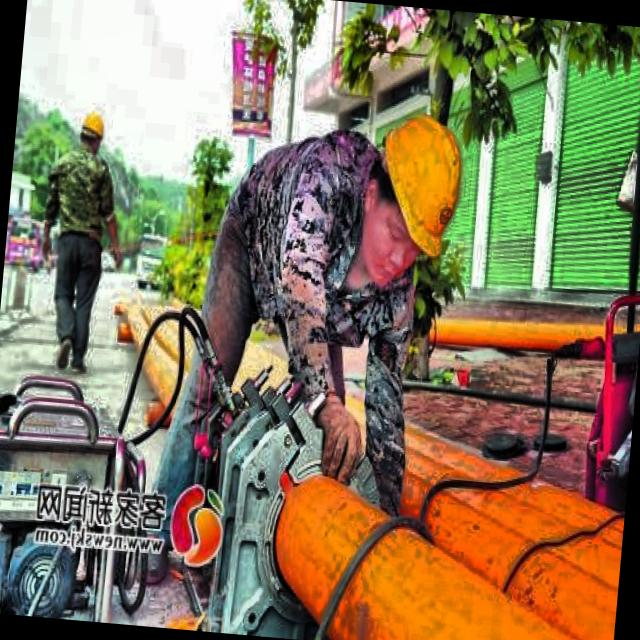helmet: (340, 93, 478, 301), (74, 105, 112, 165)
